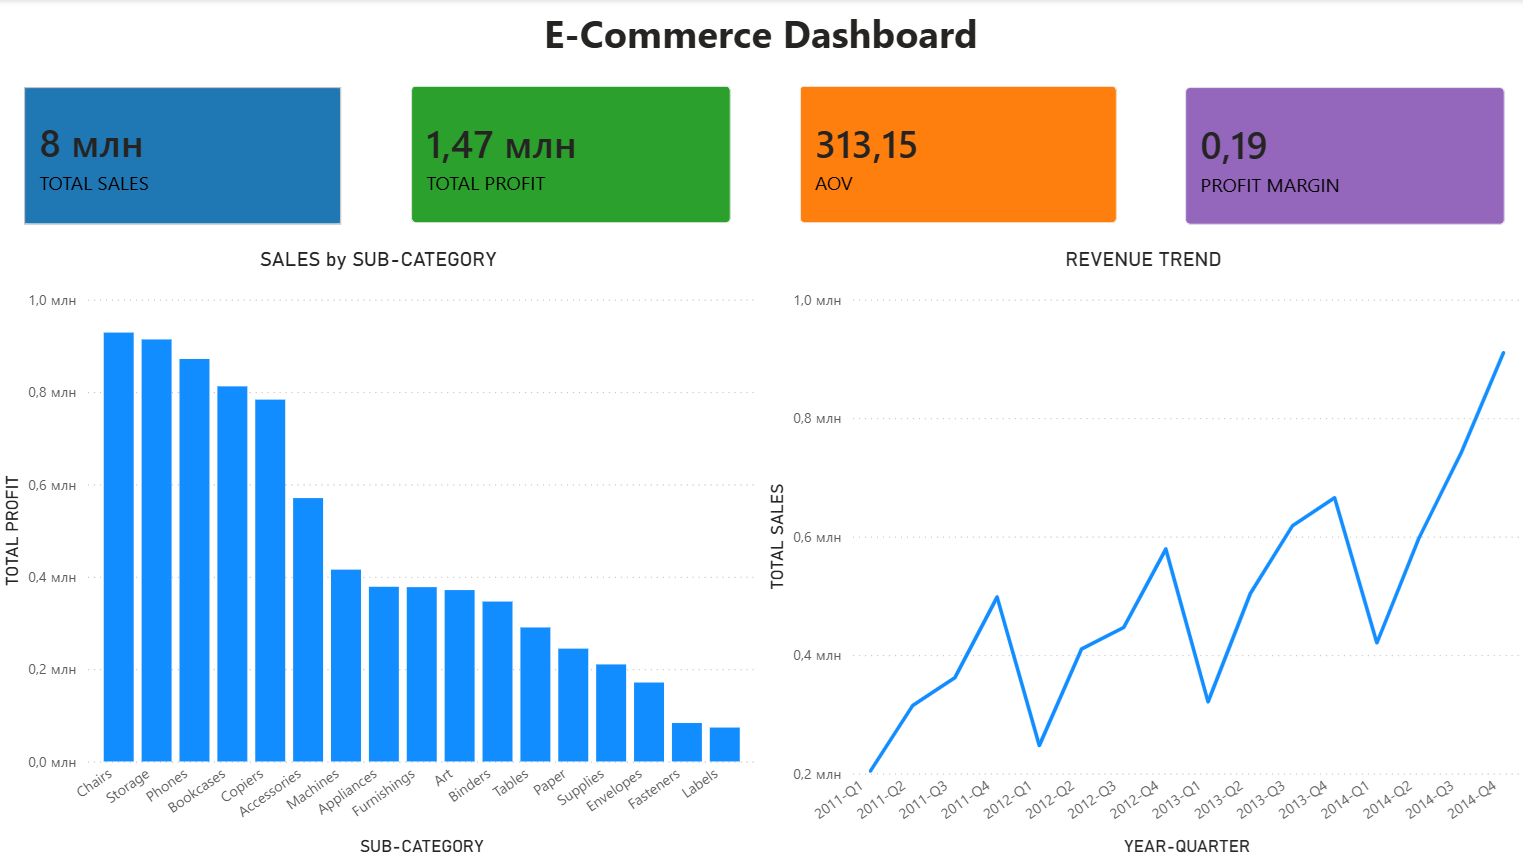

The page's visual inventory and layout, read from the dashboard file:
{"tool":"powerbi","page":{"name":"Сторінка 1","canvas":[1280,720],"ordinal":0},"visuals":[{"type":"cardVisual","fields":{"Data":["Sum(df.sales)"]},"box":[6.9,56.3,299.6,149.8],"z":0},{"type":"cardVisual","fields":{"Data":["Sum(df.profit)"]},"box":[329.5,55.1,301.3,149.8],"z":1000},{"type":"cardVisual","fields":{"Data":["df.AOV"]},"box":[653.8,55.1,299.6,149.8],"z":2000},{"type":"cardVisual","fields":{"Data":["df.PROFIT MARGIN"]},"box":[976.4,56.8,301.3,149.8],"z":3000},{"type":"columnChart","title":"SALES by SUB-CATEGORY","fields":{"Category":["df.sub_category"],"Y":["Sum(df.sales)"]},"box":[0,206.6,638.9,513.2],"z":4000},{"type":"lineChart","title":"REVENUE TREND","fields":{"Y":["Sum(df.sales)"],"Category":["df.YEAR-QUARTER"]},"box":[638.9,206.6,638.9,513.2],"z":5000},{"type":"slicer","fields":{"Values":["df.category"]},"box":[1083.1,6.9,196.3,58.5],"z":6000},{"type":"textbox","box":[0,1.7,1277.7,63.7],"z":7000}]}

Visuals, with their boxes in screenshot pixels (x1, y1, x2, y2), scaled from the page's 1280x720 canvas onto the 1528x859 screenshot:
cardVisual - Sum(df.sales): BBox(8, 67, 366, 246)
cardVisual - Sum(df.profit): BBox(393, 66, 753, 244)
cardVisual - df.AOV: BBox(780, 66, 1138, 244)
cardVisual - df.PROFIT MARGIN: BBox(1166, 68, 1525, 246)
"SALES by SUB-CATEGORY" columnChart: BBox(0, 246, 763, 858)
"REVENUE TREND" lineChart: BBox(763, 246, 1525, 858)
slicer - df.category: BBox(1293, 8, 1527, 78)
textbox: BBox(0, 2, 1525, 78)
